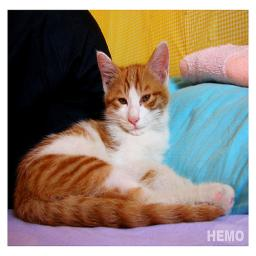catnose: (126, 114, 142, 127)
